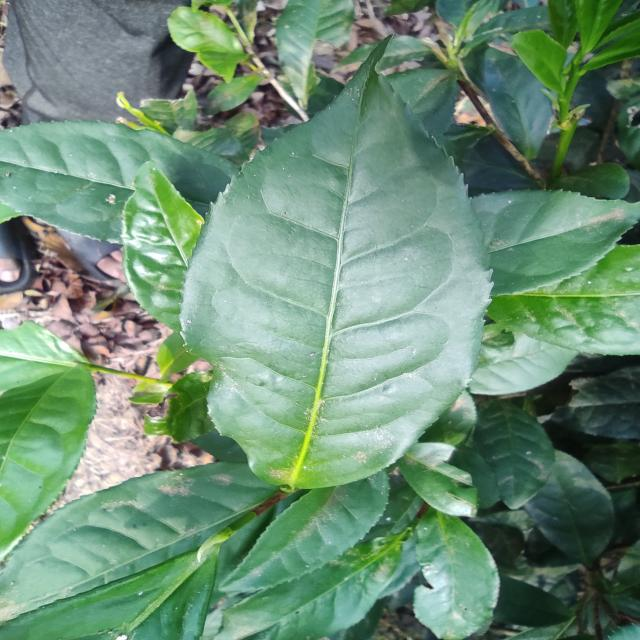Category D 7+ days, Not for Tea: (153, 24, 498, 502)
